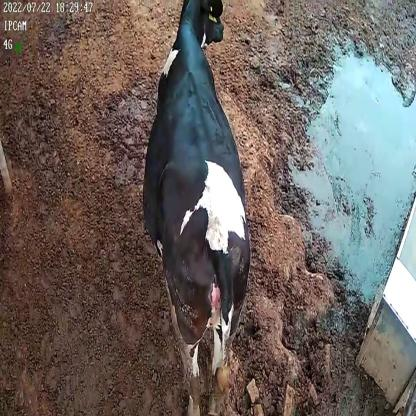cow: (143, 0, 253, 416)
